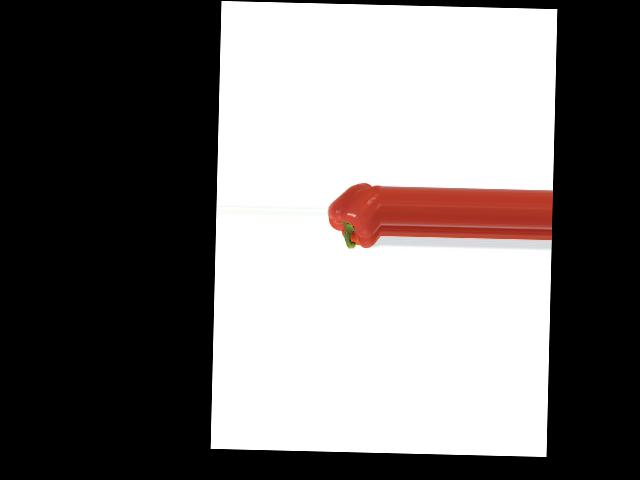bell_pepper: (326, 174, 382, 258)
